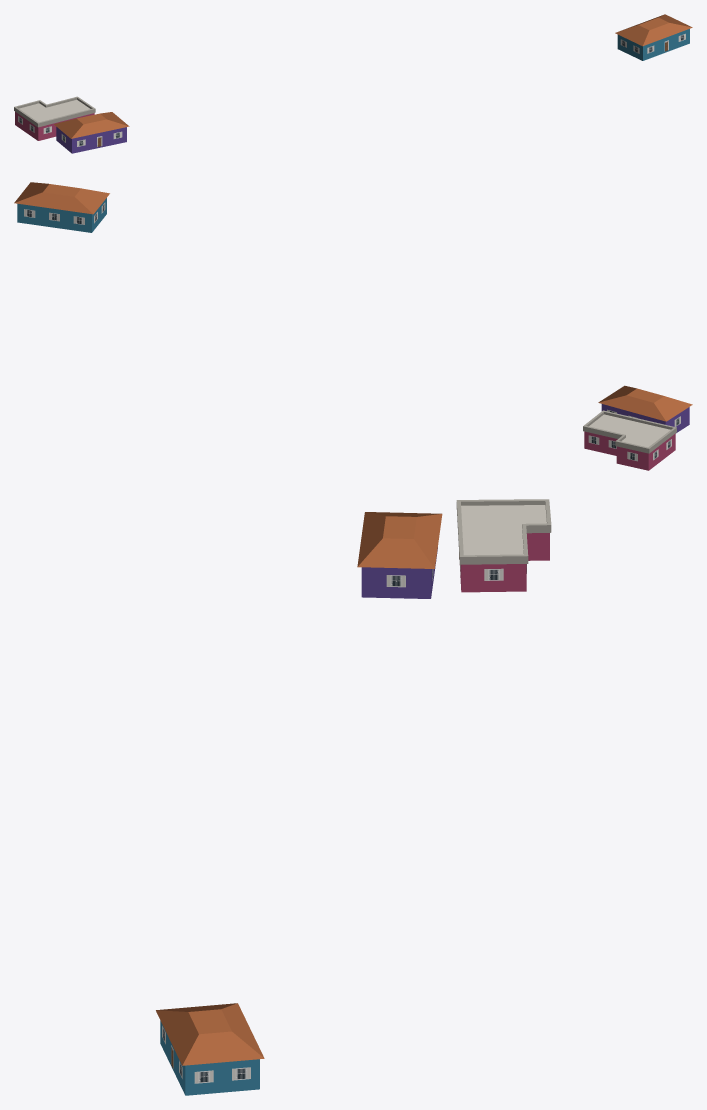
File: msb_noord_m12_m10.glb
3 views of the same model, one above another, from view 1: azimuth 30°, elevation 25°; view 2: azimuth 150°, elevation 25°; view 3: azimuth 270°, elevation 25° (orthographic). The views are drawn at different scales.
Visible parts, largest first — view 1: msb_noord_m12_m10_lod0; view 2: msb_noord_m12_m10_lod0; view 3: msb_noord_m12_m10_lod0.
Part boxes in pixels (x1=…): msb_noord_m12_m10_lod0: x1=14, y1=14, x2=692, y2=153; msb_noord_m12_m10_lod0: x1=14, y1=182, x2=692, y2=470; msb_noord_m12_m10_lod0: x1=156, y1=499, x2=551, y2=1095.
Size of what is drawn, in the model's own units: 135 by 6.05 by 39.33.
Materials: 3 (1 with a texture image).
